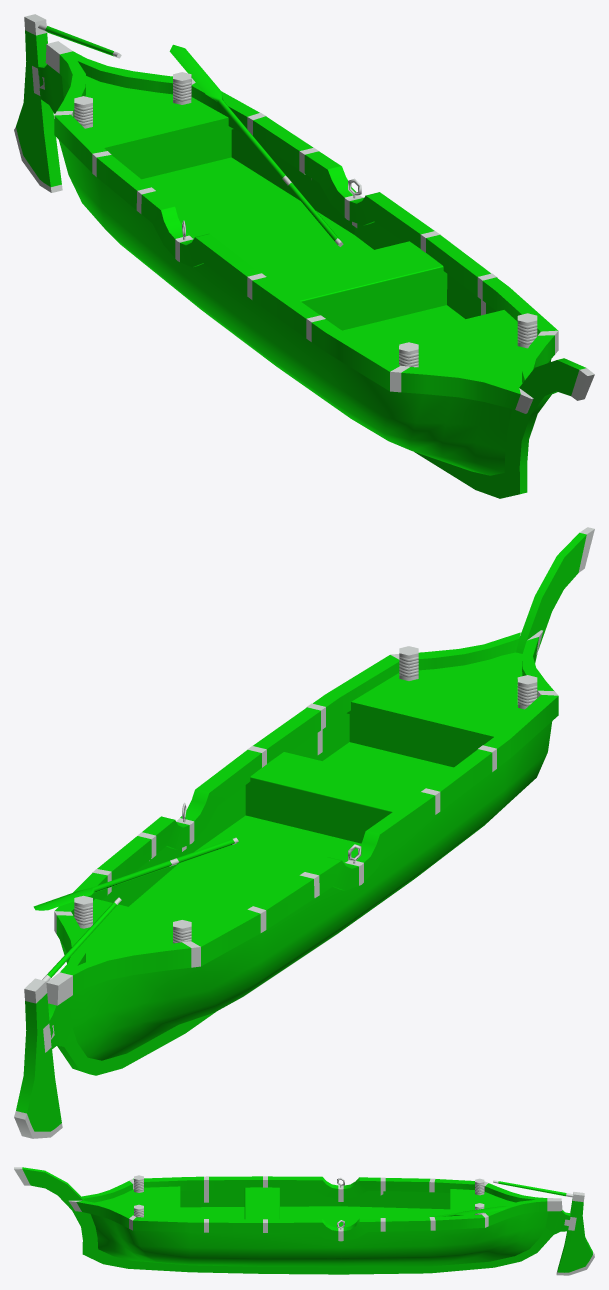
The picture shows the model from 3 angles, top to bottom: view 1: azimuth 30°, elevation 25°; view 2: azimuth 150°, elevation 25°; view 3: azimuth 270°, elevation 25°; orthographic projection. The views are drawn at different scales.
Visible parts, largest first — view 1: G:\FFXIV-MapTools\exports\s1f4\bg\ffxiv\sea_s1\fld\s1f4\bgpa (×2); view 2: G:\FFXIV-MapTools\exports\s1f4\bg\ffxiv\sea_s1\fld\s1f4\bgpa (×2); view 3: G:\FFXIV-MapTools\exports\s1f4\bg\ffxiv\sea_s1\fld\s1f4\bgpa (×2).
Boxes of the visible parts, <box> form: G:\FFXIV-MapTools\exports\s1f4\bg\ffxiv\sea_s1\fld\s1f4\bgpa (×2): <box>14,14,594,498</box>; G:\FFXIV-MapTools\exports\s1f4\bg\ffxiv\sea_s1\fld\s1f4\bgpa (×2): <box>14,527,594,1138</box>; G:\FFXIV-MapTools\exports\s1f4\bg\ffxiv\sea_s1\fld\s1f4\bgpa (×2): <box>14,1167,594,1275</box>.
Bounding box in the file's own units: 2.96 × 3.14 × 15.58.
